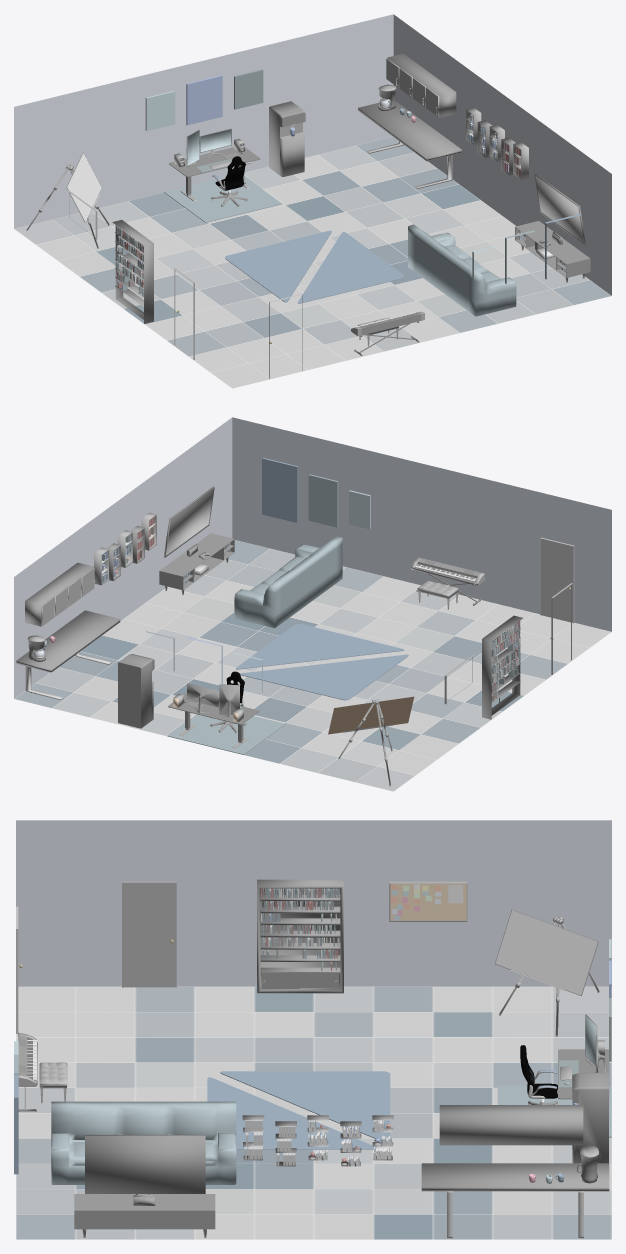
The model's file is office.glb.
3 renders of one model, top to bottom at view 1: azimuth 30°, elevation 25°; view 2: azimuth 150°, elevation 25°; view 3: azimuth 270°, elevation 25°, orthographic. The views are drawn at different scales.
Parts seen in each view (by area): view 1: Room, Floor, TV, Coffee_table, Organizer_Big, Water Disperser, Organizers, Whiteboard, Desk_top, Piano, Chair, Monitor; view 2: Room, Floor, TV, Coffee_table, Organizer_Big, Water Disperser, Whiteboard, Organizers, Piano, Desk_top, Monitor.001, Monitor (+1 smaller); view 3: Floor, Room, TV, Coffee_table, Organizer_Big, Whiteboard, Organizers, Notes_Board, Water Disperser, Piano, Chair, Desk_top (+2 smaller).
Boxes of the visible parts, bbox=[...] form: Room: bbox=[14, 14, 611, 378]; Floor: bbox=[14, 136, 611, 388]; TV: bbox=[408, 174, 590, 316]; Coffee_table: bbox=[358, 53, 461, 188]; Organizer_Big: bbox=[112, 220, 153, 323]; Water Disperser: bbox=[269, 101, 305, 176]; Organizers: bbox=[466, 107, 528, 179]; Whiteboard: bbox=[26, 152, 109, 248]; Desk_top: bbox=[169, 147, 260, 194]; Piano: bbox=[351, 311, 424, 355]; Chair: bbox=[211, 156, 247, 206]; Monitor: bbox=[199, 128, 231, 158]; Room: bbox=[14, 417, 611, 754]; Floor: bbox=[14, 540, 611, 791]; TV: bbox=[159, 486, 342, 628]; Coffee_table: bbox=[16, 562, 120, 700]; Organizer_Big: bbox=[482, 615, 522, 719]; Water Disperser: bbox=[118, 654, 154, 728]; Whiteboard: bbox=[328, 696, 414, 786]; Organizers: bbox=[94, 512, 156, 585]; Piano: bbox=[411, 557, 484, 605]; Desk_top: bbox=[168, 693, 259, 741]; Monitor.001: bbox=[219, 684, 239, 716]; Monitor: bbox=[187, 683, 218, 713]; Floor: bbox=[16, 986, 611, 1239]; Room: bbox=[14, 820, 611, 1174]; TV: bbox=[51, 1101, 236, 1237]; Coffee_table: bbox=[421, 1105, 609, 1238]; Organizer_Big: bbox=[257, 879, 343, 993]; Whiteboard: bbox=[495, 909, 599, 1036]; Organizers: bbox=[242, 1115, 393, 1166]; Notes_Board: bbox=[389, 881, 467, 921]; Water Disperser: bbox=[572, 1073, 608, 1163]; Piano: bbox=[18, 1032, 37, 1111]; Chair: bbox=[520, 1045, 557, 1104]; Desk_top: bbox=[558, 1049, 609, 1099].
Bounding box in the file's own units: 40.1 × 12.29 × 39.95.
Materials: 3 (3 with a texture image).
